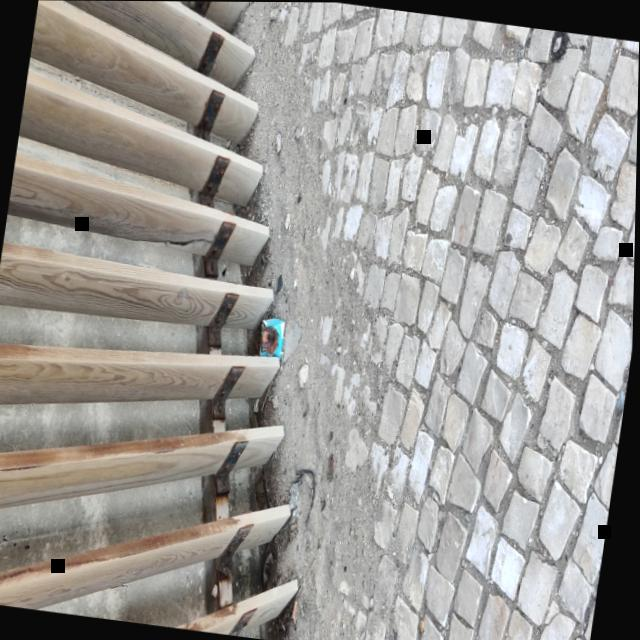Cigarette: (293, 600, 299, 620)
Drink carton: (260, 317, 285, 359)
Other plastic bottle: (281, 506, 298, 529)
Plastic straw: (280, 350, 284, 355)
